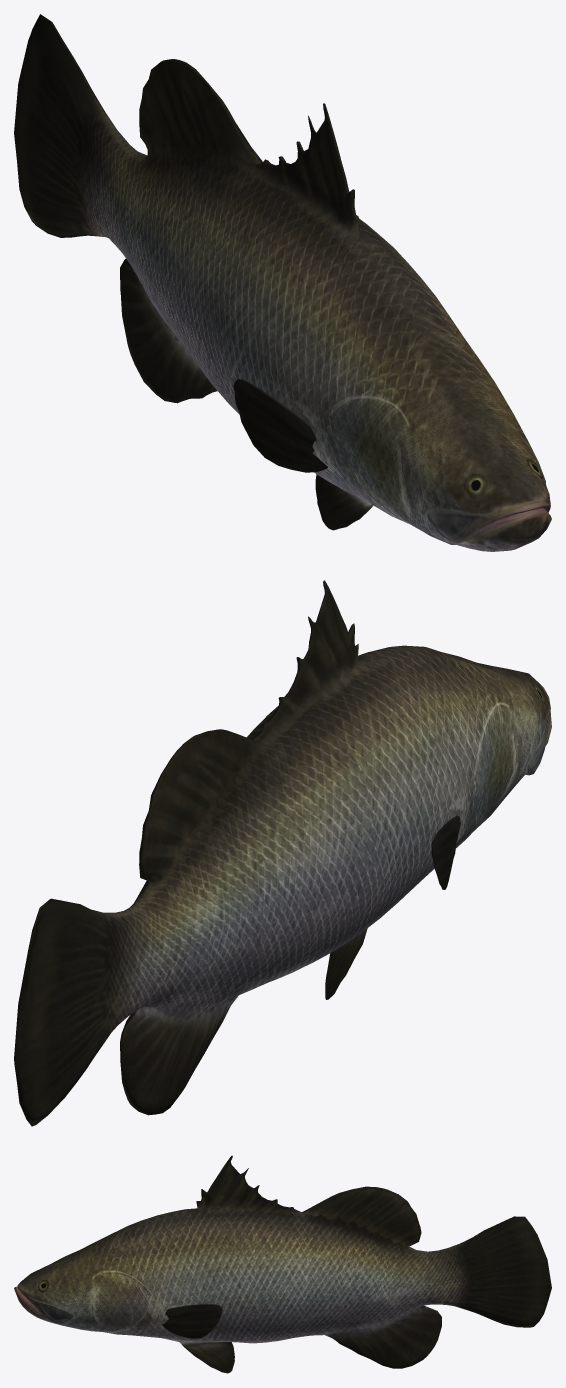
The model's file is barramundi.glb.
The picture shows the model from 3 angles, top to bottom: view 1: azimuth 30°, elevation 25°; view 2: azimuth 150°, elevation 25°; view 3: azimuth 270°, elevation 25°; orthographic projection. The views are drawn at different scales.
Visible parts, largest first — view 1: BarramundiFish; view 2: BarramundiFish; view 3: BarramundiFish.
Boxes of the visible parts, x1=… form: BarramundiFish: x1=14, y1=14, x2=551, y2=551; BarramundiFish: x1=14, y1=580, x2=551, y2=1126; BarramundiFish: x1=14, y1=1155, x2=551, y2=1373.
Size of the model in its own units: 0.1429 by 0.2875 by 0.6431.
Materials: 1 (1 with a texture image).
